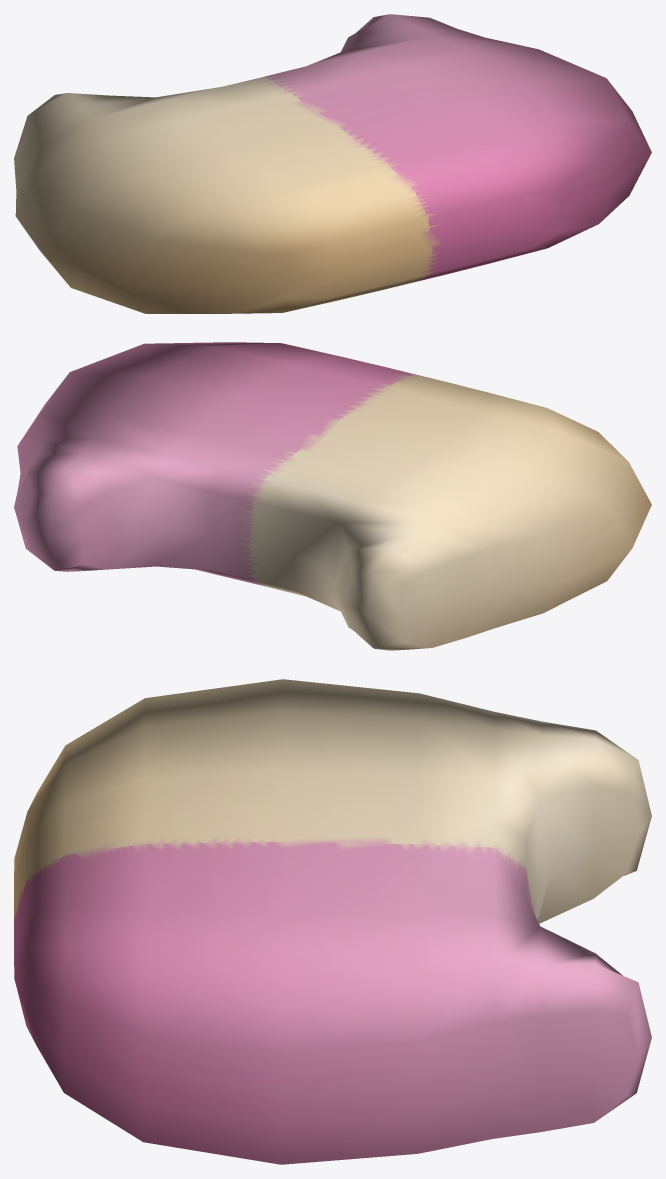
The model's file is relleno.obj.
3 views of the same model, one above another, from view 1: azimuth 30°, elevation 25°; view 2: azimuth 150°, elevation 25°; view 3: azimuth 270°, elevation 25° (orthographic). The views are drawn at different scales.
Parts seen in each view (by area): view 1: Filling; view 2: Filling; view 3: Filling.
Part boxes in pixels (<box>): Filling: <box>14,14,651,313</box>; Filling: <box>14,342,651,650</box>; Filling: <box>14,679,651,1164</box>.
Bounding box in the file's own units: 204 × 37.55 × 134.
Materials: 1 (1 with a texture image).
